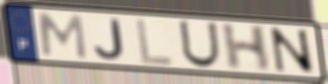H: (220, 23, 272, 73)
J: (93, 17, 127, 61)
L: (134, 16, 175, 67)
M: (36, 11, 89, 62)
N: (268, 26, 318, 76)
U: (178, 19, 222, 69)
